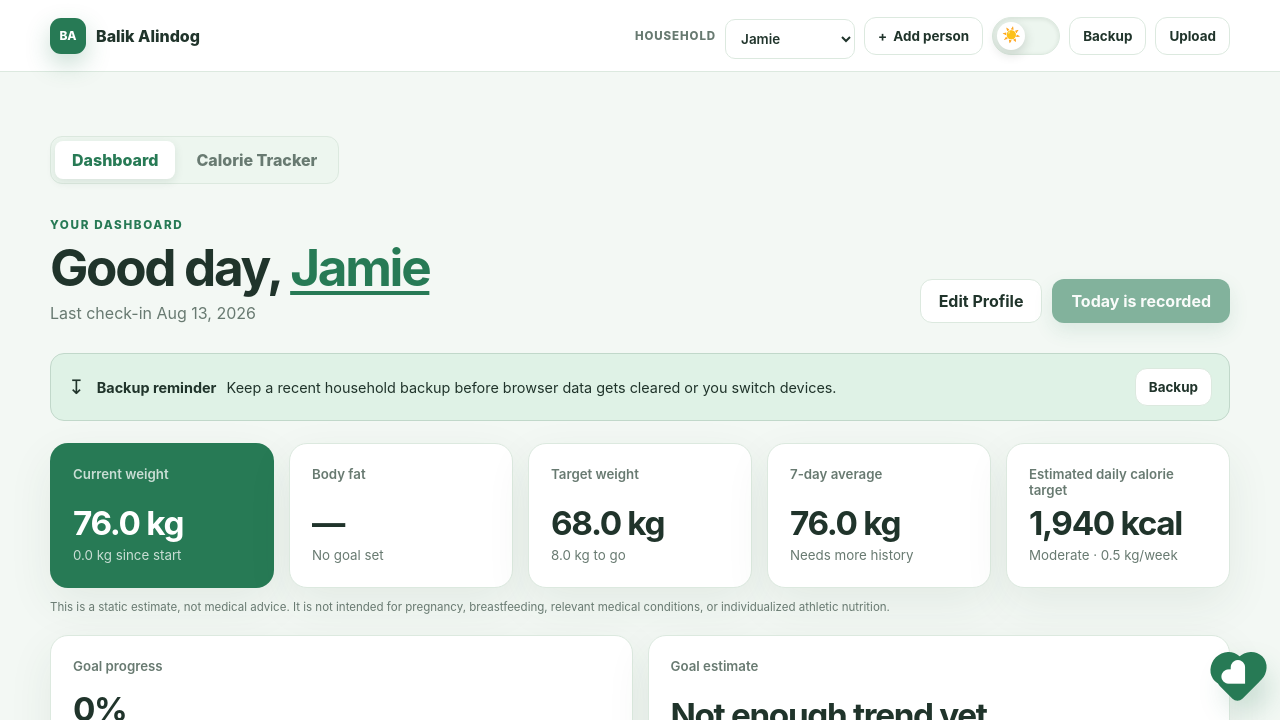
Test: Balik Alindog Tracker › opens profile details from the greeting name
This screenshot has width=1280, height=720.
Click the button "Jamie": coordinates (360, 268) [290, 240, 429, 295]
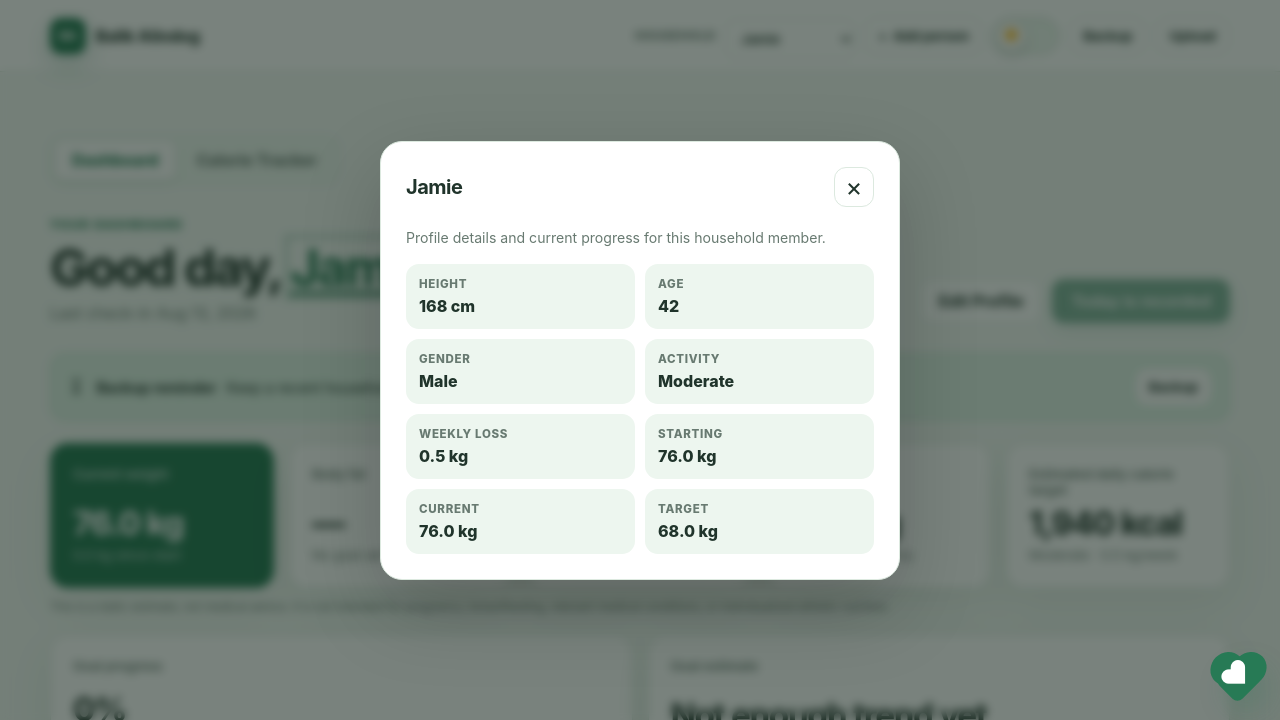
Expected: the text "168 cm" is shown, [419, 296, 475, 316]
Expected: the text "Male" is shown, [419, 370, 458, 390]
Expected: the text "68.0 kg" is shown, [658, 520, 718, 540]
